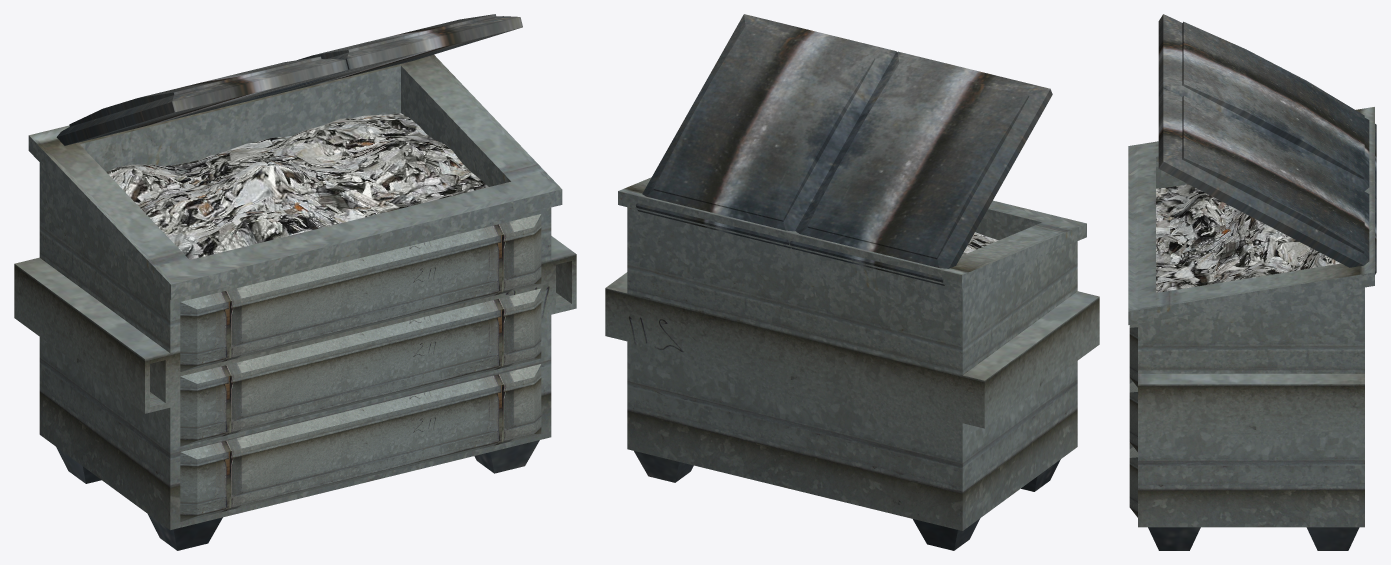
File: Scrap collector 1.fbx
3 views of the same model, side by side, from view 1: azimuth 30°, elevation 25°; view 2: azimuth 150°, elevation 25°; view 3: azimuth 270°, elevation 25° (orthographic). The views are drawn at different scales.
Visible parts, largest first — view 1: Cube; view 2: Cube; view 3: Cube.
Part boxes in pixels (left/top/right/bottom): Cube: left=14, top=14, right=576, bottom=550; Cube: left=605, top=14, right=1099, bottom=550; Cube: left=1128, top=14, right=1376, bottom=550.
Size of the model in its own units: 537 by 533 by 309.
